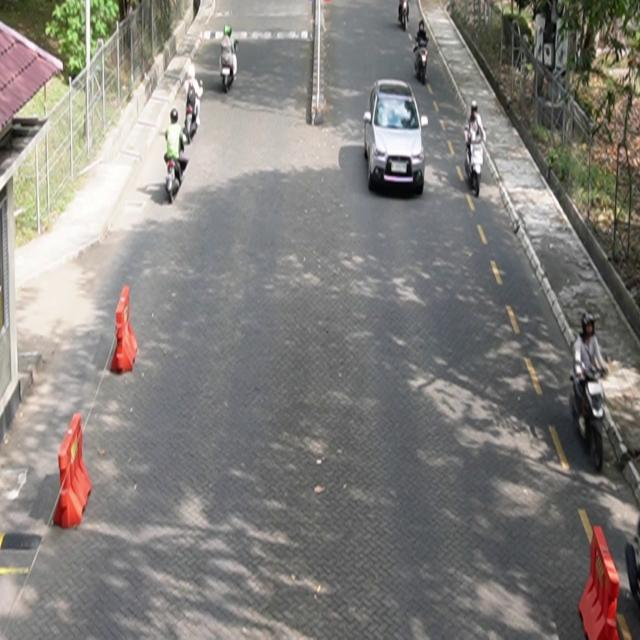car: (364, 80, 429, 196)
